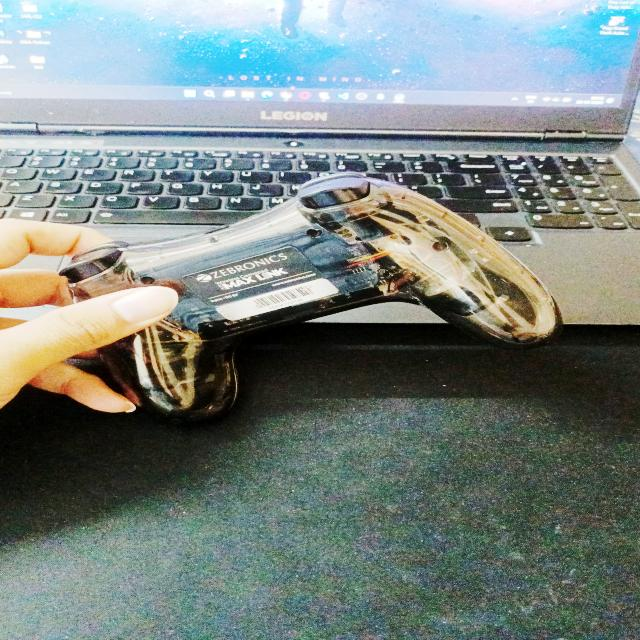gamepad: (55, 172, 563, 423)
